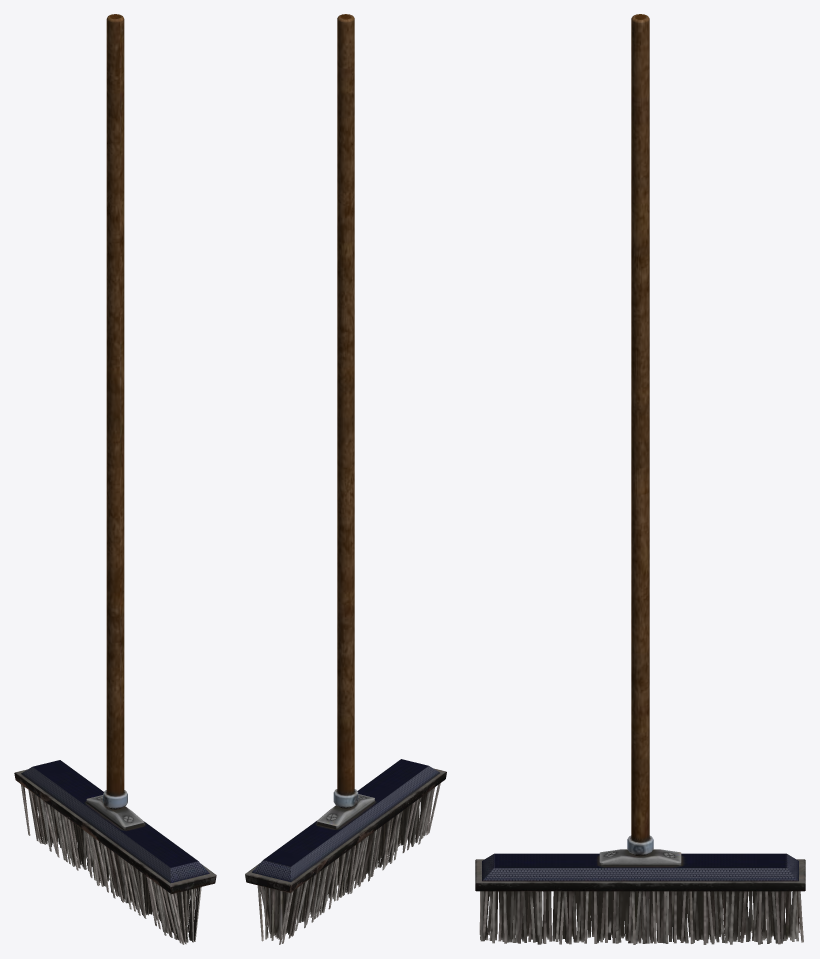
The model's file is escoba.glb.
3 views of the same model, side by side, from view 1: azimuth 30°, elevation 25°; view 2: azimuth 150°, elevation 25°; view 3: azimuth 270°, elevation 25° (orthographic). The views are drawn at different scales.
Parts seen in each view (by area): view 1: escoba; view 2: escoba; view 3: escoba.
Boxes of the visible parts, x1=… form: escoba: x1=14, y1=14, x2=216, y2=944; escoba: x1=245, y1=14, x2=446, y2=944; escoba: x1=475, y1=14, x2=805, y2=944.
Bounding box in the file's own units: 0.0763 × 1.35 × 0.4385.
Materials: 1 (1 with a texture image).
